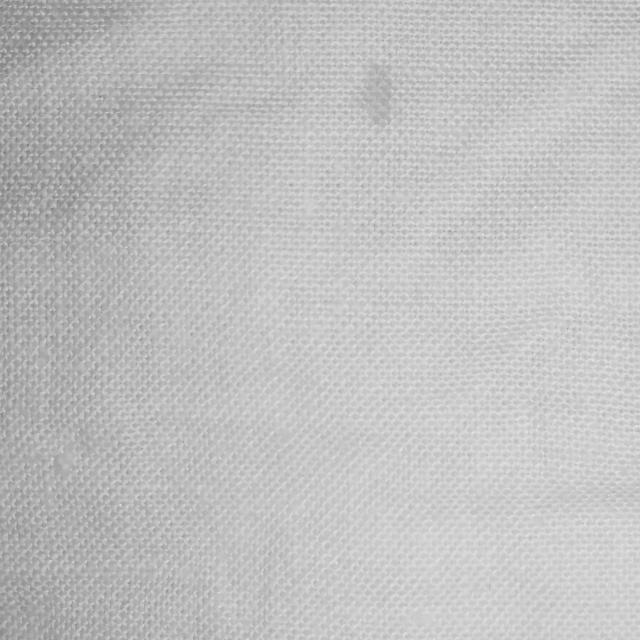defect: (358, 73, 405, 140)
